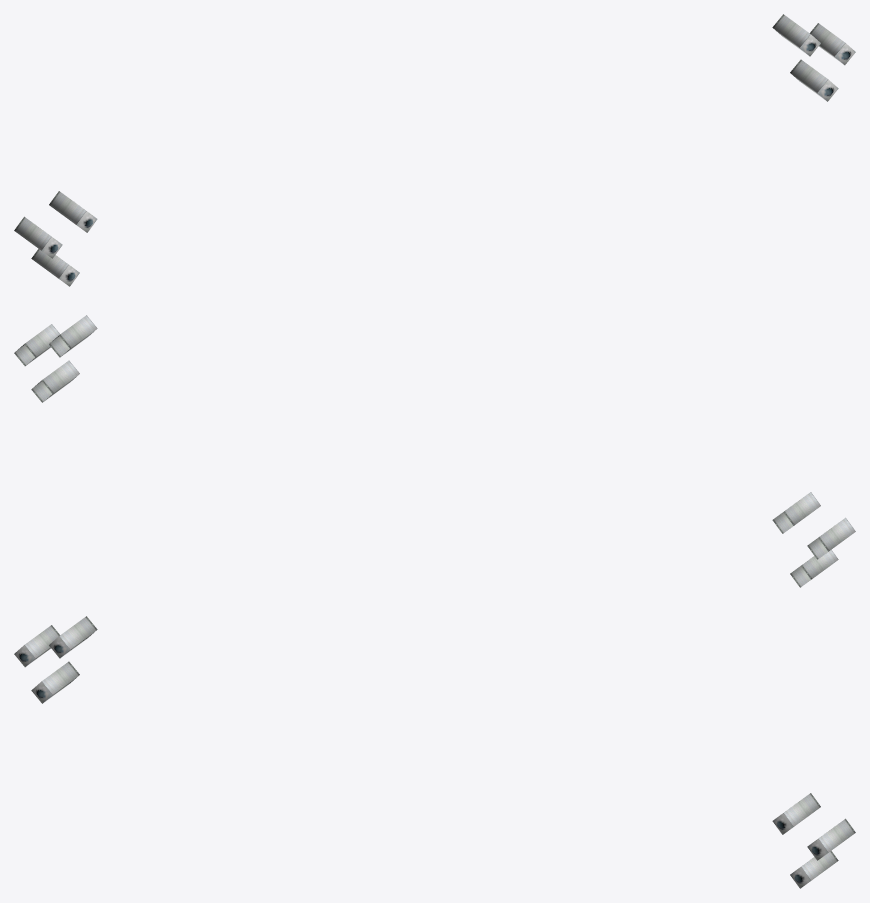
File: hutt_fighter_medium_weapon2_s04_l1.fbx
3 views of the same model, one above another, from view 1: azimuth 30°, elevation 25°; view 2: azimuth 150°, elevation 25°; view 3: azimuth 330°, elevation 25° (orthographic).
Parts seen in each view (by area): view 1: mesh_node; view 2: mesh_node; view 3: mesh_node.
Part boxes in pixels (x1,y1,x2,y2): mesh_node: (14,14,855,286); mesh_node: (14,315,855,587); mesh_node: (14,616,855,888).
Bounding box in the file's own units: 3.21 × 0.2705 × 0.2057.
